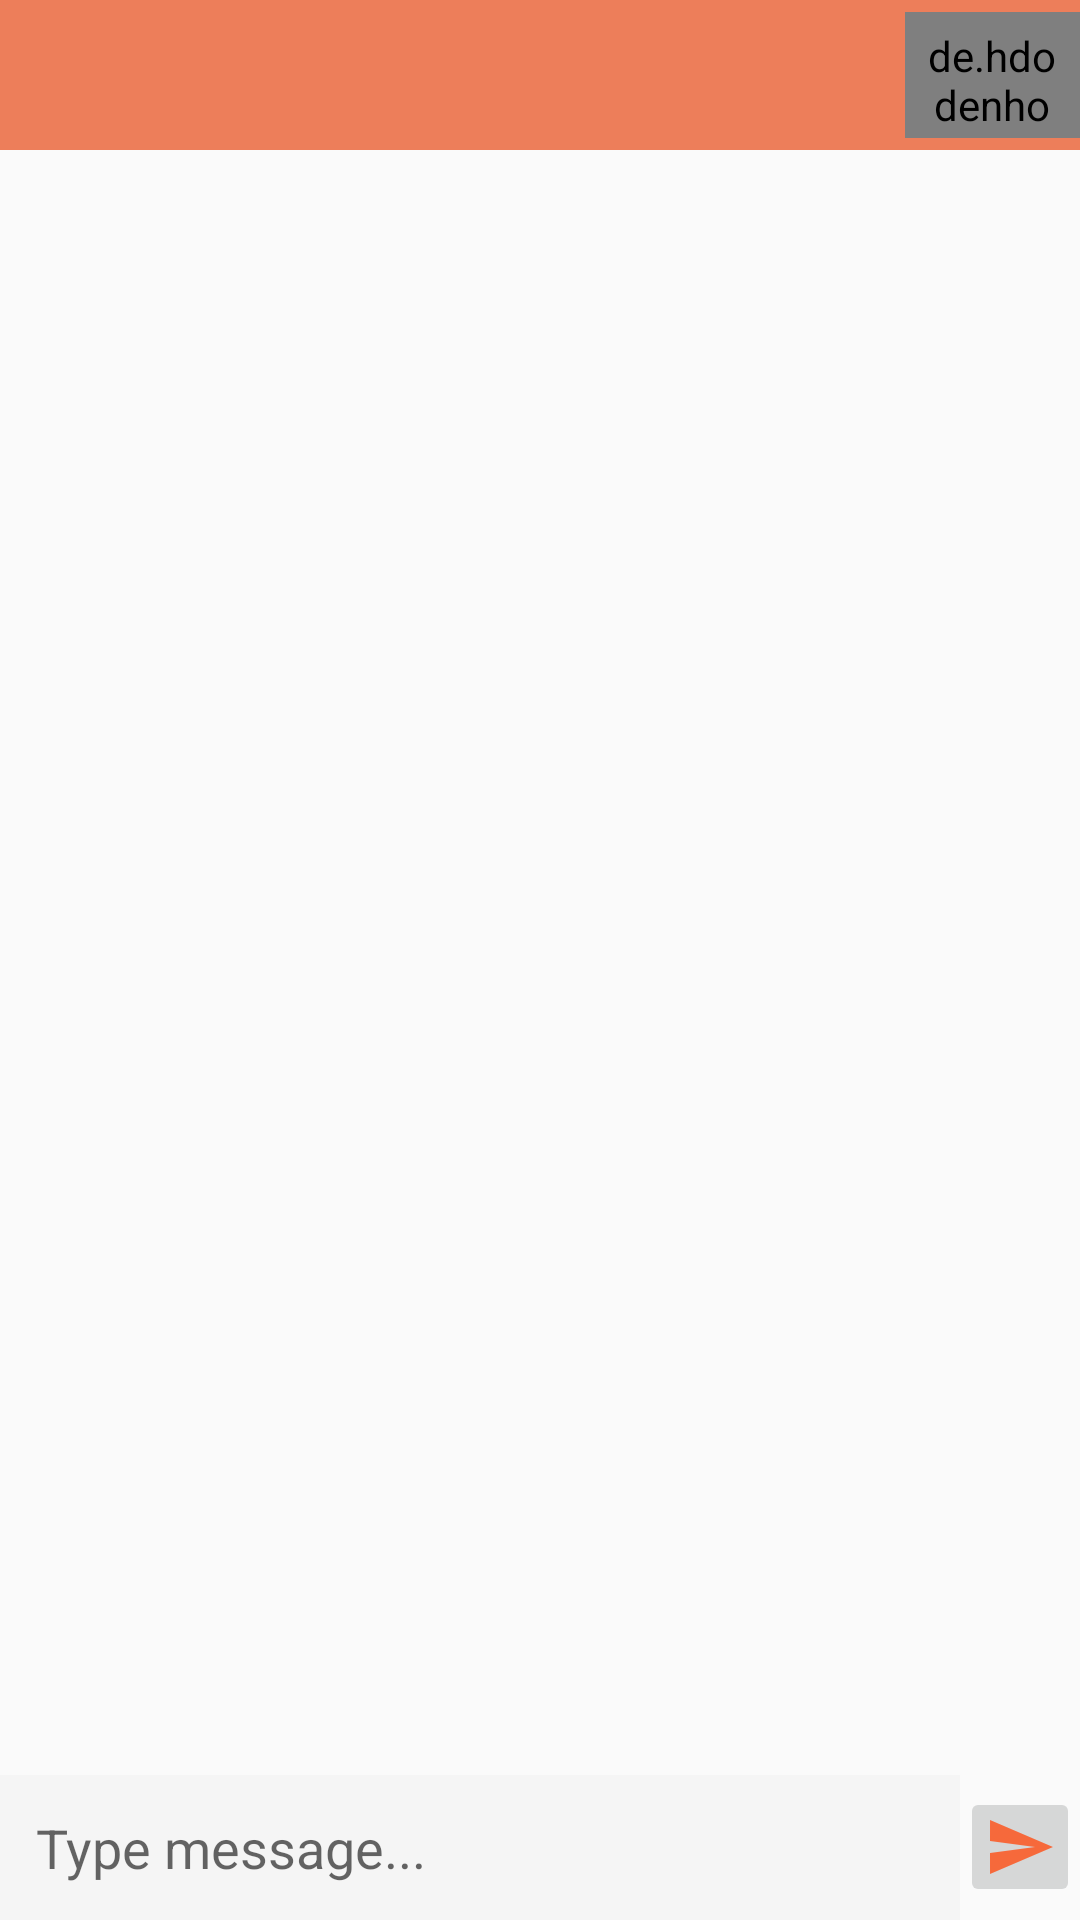

Where icons sit on this 1080px×1920px app screen, as (x1, y1, x2, y2):
send: (972, 1805, 1068, 1889)
